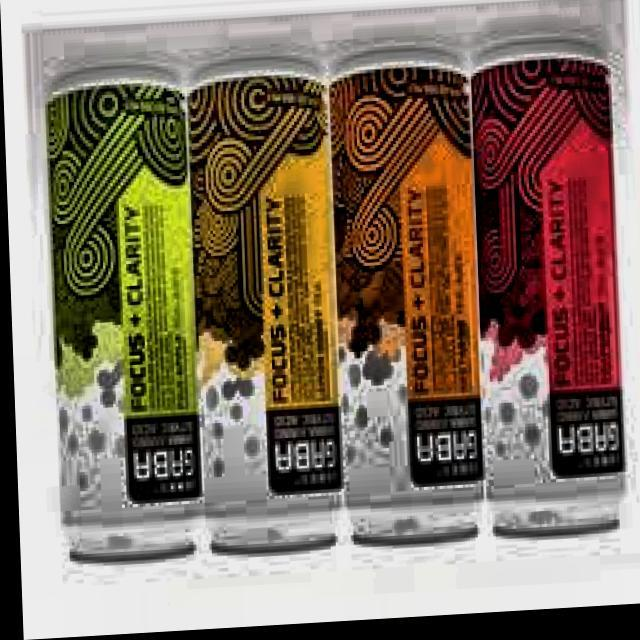Aluminum Can: (323, 44, 487, 570), (36, 63, 200, 580), (180, 59, 343, 574), (462, 41, 624, 558)
